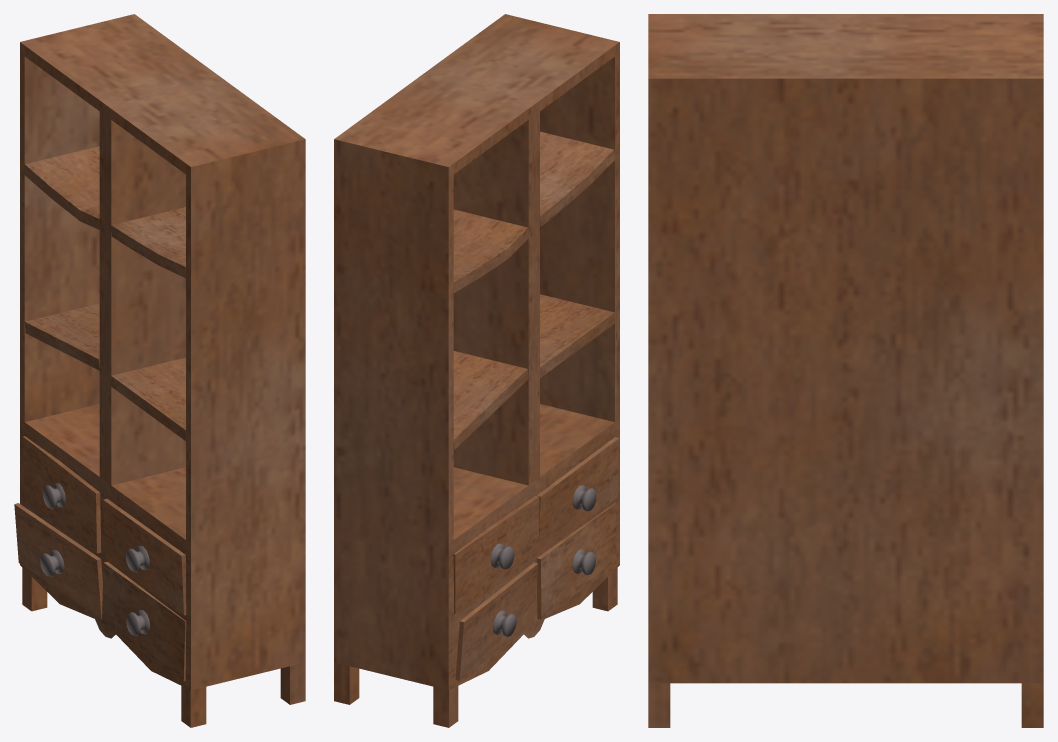
The model's file is Closet.fbx.
3 renders of one model, left to right at view 1: azimuth 30°, elevation 25°; view 2: azimuth 150°, elevation 25°; view 3: azimuth 270°, elevation 25°, orthographic. The views are drawn at different scales.
Parts seen in each view (by area): view 1: Closet; view 2: Closet; view 3: Closet.
Part boxes in pixels (x1,y1,x2,y2): Closet: (14, 14, 305, 727); Closet: (334, 14, 619, 727); Closet: (648, 14, 1043, 727).
Bounding box in the file's own units: 234 × 937 × 517.
